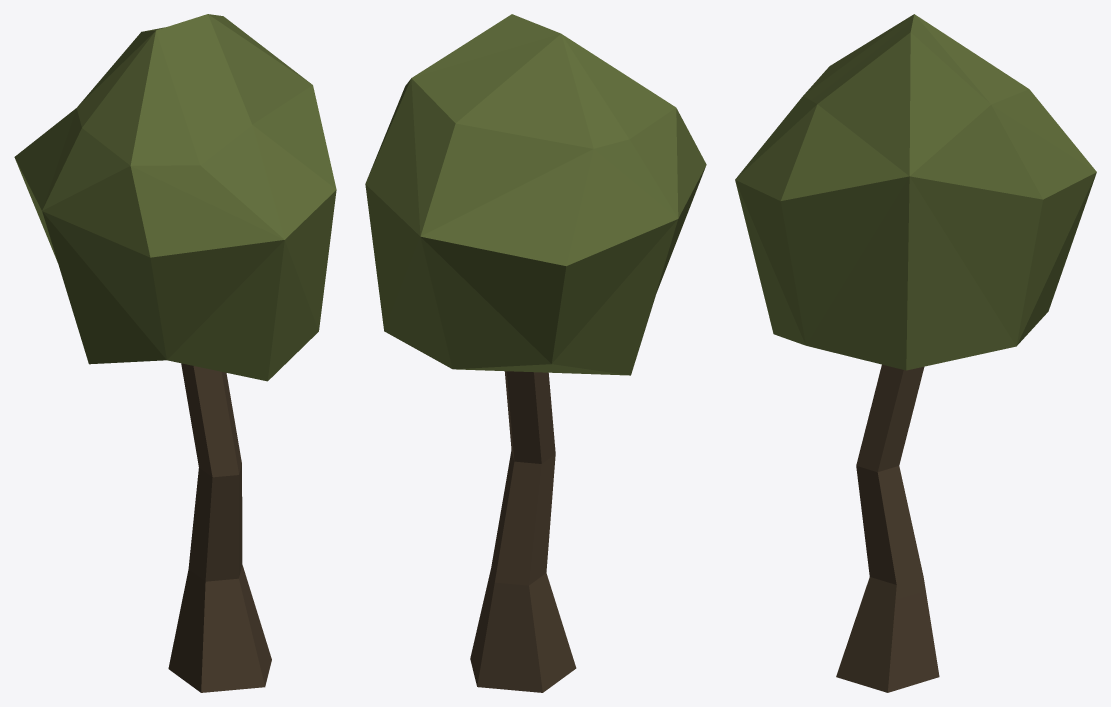
File: SM_Env_Tree_013.gltf
3 views of the same model, side by side, from view 1: azimuth 30°, elevation 25°; view 2: azimuth 150°, elevation 25°; view 3: azimuth 270°, elevation 25° (orthographic). The views are drawn at different scales.
Parts seen in each view (by area): view 1: SM_Env_Tree_013; view 2: SM_Env_Tree_013; view 3: SM_Env_Tree_013.
Part boxes in pixels (x1,y1,x2,y2): SM_Env_Tree_013: (14, 14, 336, 692); SM_Env_Tree_013: (365, 14, 706, 692); SM_Env_Tree_013: (735, 14, 1096, 692).
Bounding box in the file's own units: 2.31 × 5.35 × 2.76.
1 material, 1 textured.
